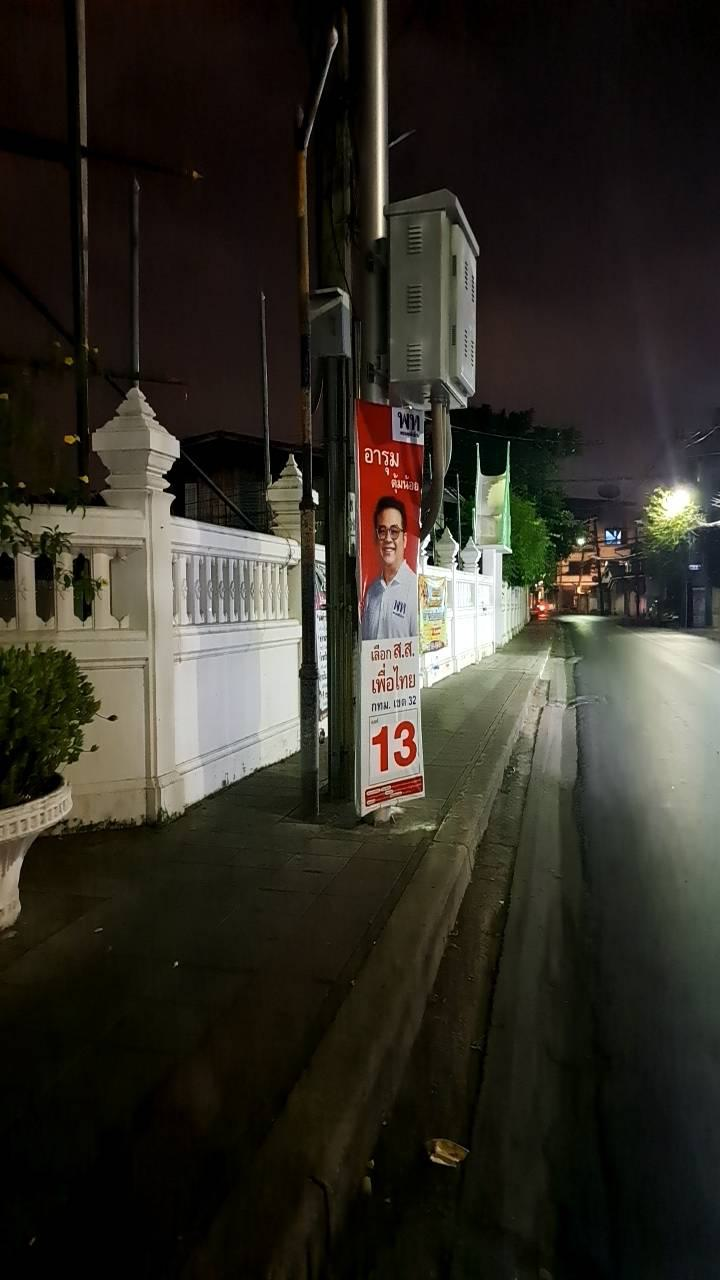Banner: (346, 403, 440, 827)
